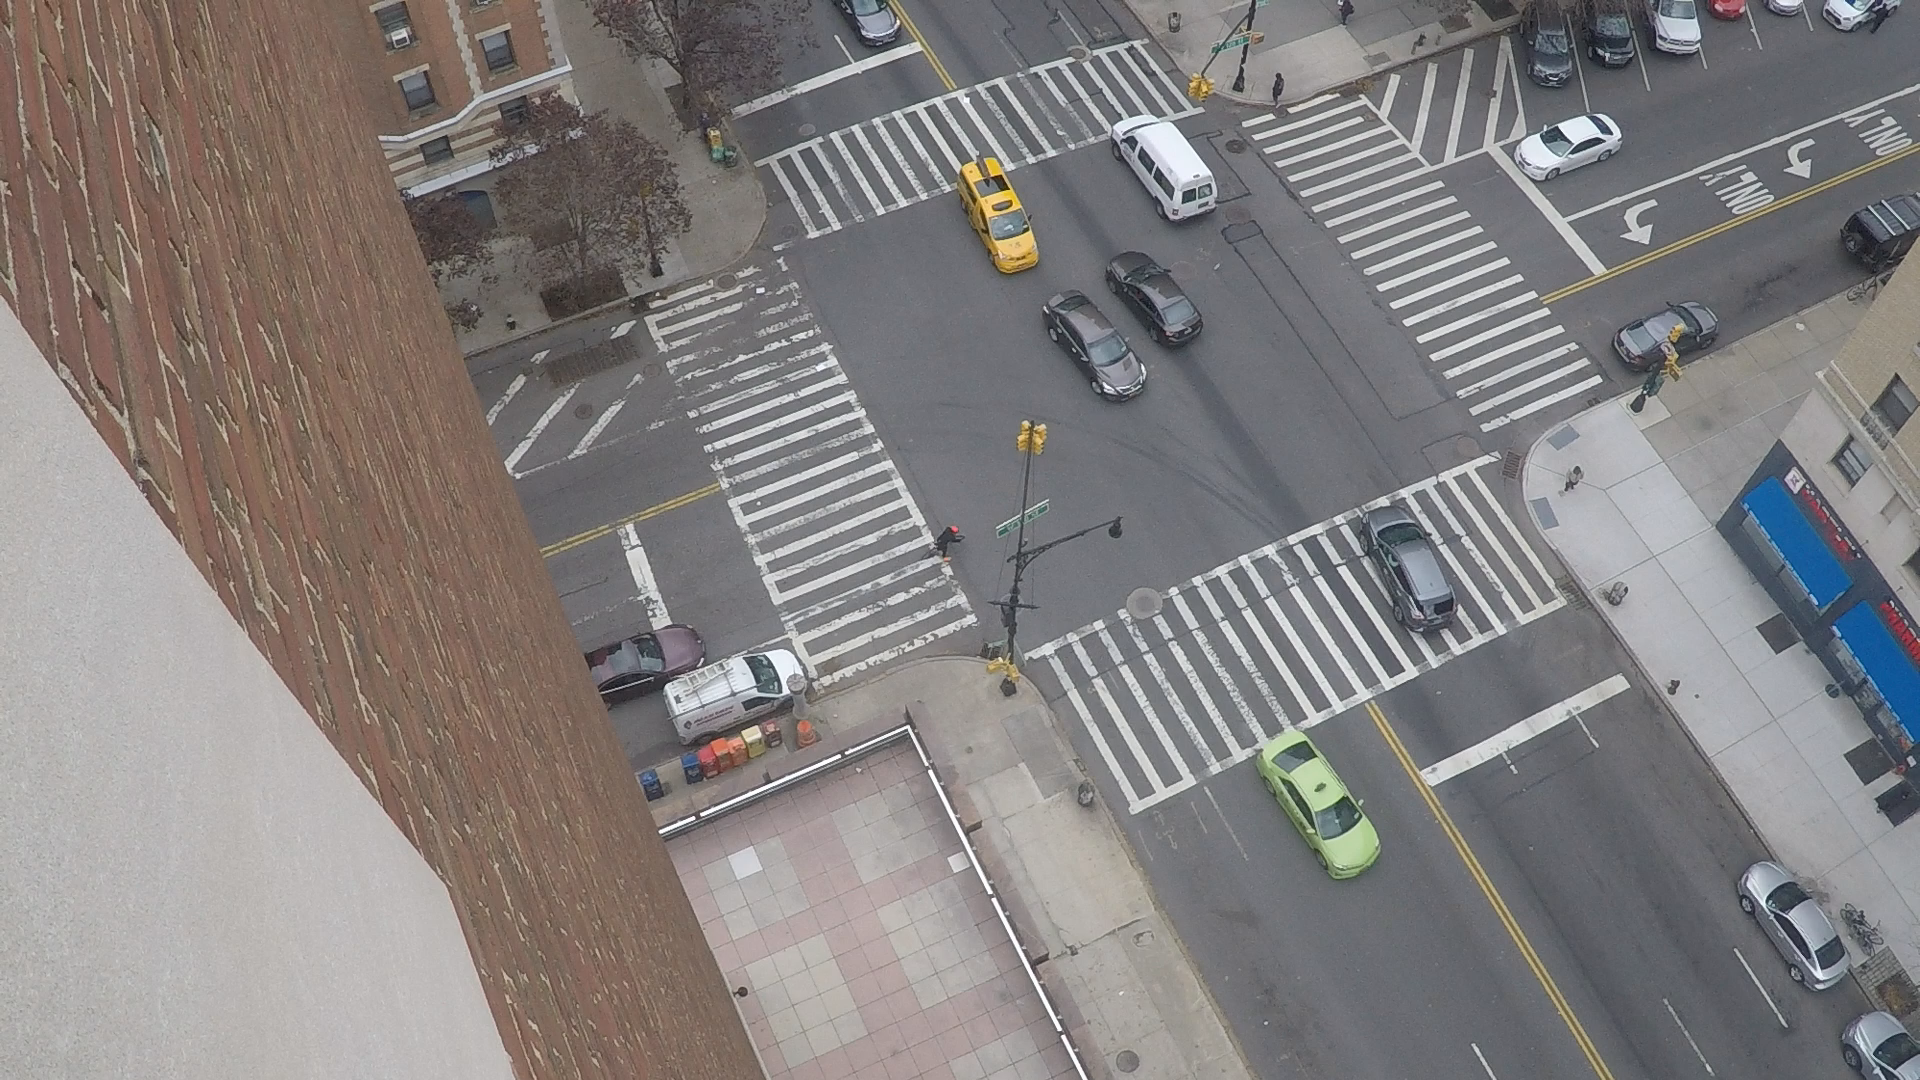Car: (829, 0, 862, 45), (1760, 0, 1764, 5), (1643, 0, 1644, 9), (1704, 0, 1705, 7)
